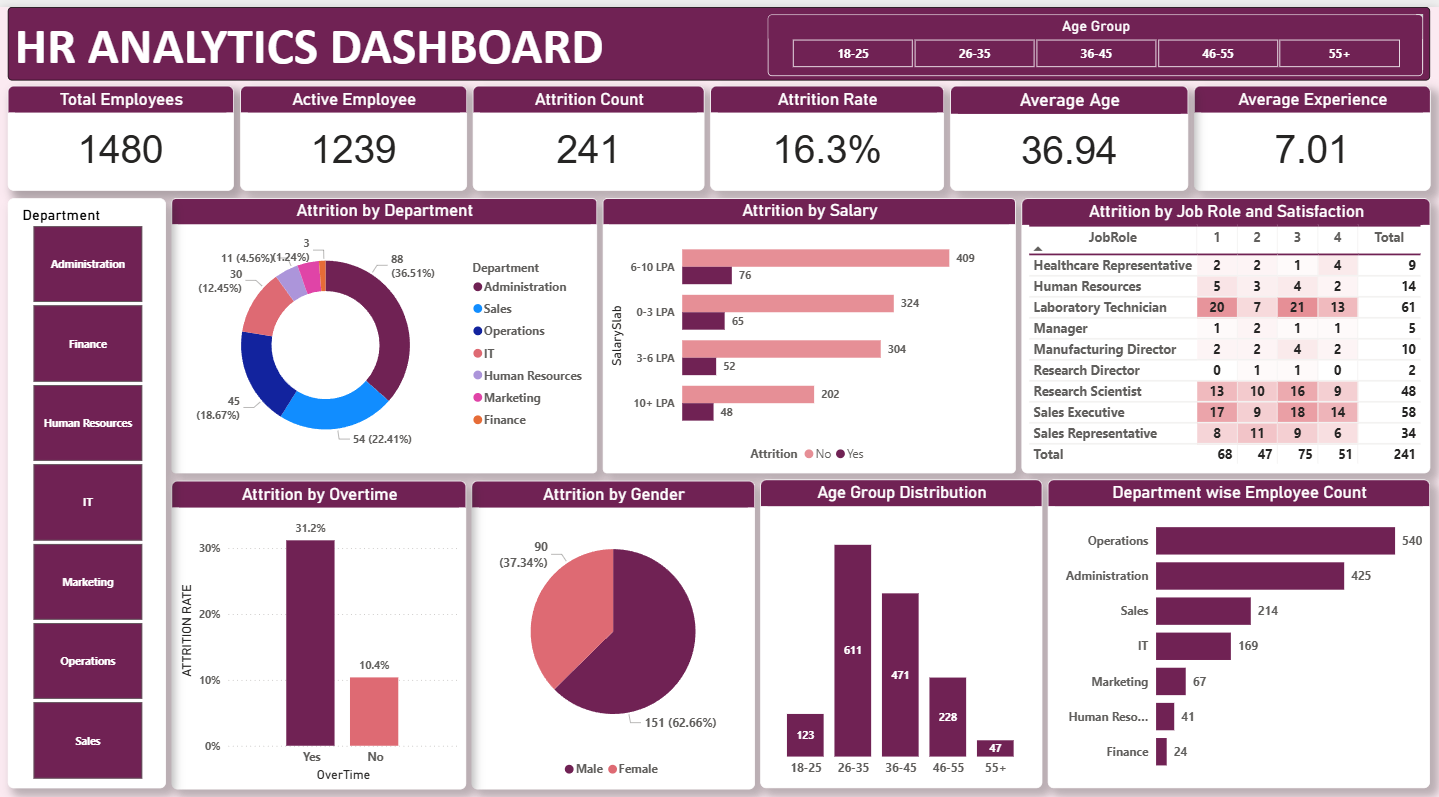

This screenshot's page, from the dashboard's own definition file:
{"tool":"powerbi","page":{"name":"Page 2","canvas":[1600,903],"ordinal":0},"visuals":[{"type":"textbox","box":[10,0,1577.1,97.1],"z":0},{"type":"card","title":"Total Employees","fields":{"Values":["HR_Analytics (1).Total Employees"]},"box":[10,104.3,251.4,137.1],"z":1000},{"type":"card","title":"Active Employee","fields":{"Values":["HR_Analytics (1).Active Employees"]},"box":[268.6,104.3,254,137.1],"z":2000},{"type":"card","title":"Attrition Count","fields":{"Values":["HR_Analytics (1).ATTRITION COUNT"]},"box":[530,104.3,253,137.1],"z":3000},{"type":"card","title":"Attrition Rate","fields":{"Values":["HR_Analytics (1).ATTRITION RATE"]},"box":[790,104.3,254,137.1],"z":4000},{"type":"card","title":"Average Experience","fields":{"Values":["HR_Analytics (1).AVERAGE EXPERIENCE"]},"box":[1317.1,104.3,270,137],"z":5000},{"type":"card","title":"Average Age","fields":{"Values":["Avg(HR_Analytics (1).Age)"]},"box":[1051.4,104.3,258.6,137.1],"z":6000},{"type":"donutChart","title":" Attrition by Department ","fields":{"Category":["HR_Analytics (1).Department"],"Y":["HR_Analytics (1).ATTRITION COUNT"]},"box":[197.1,250,470,324.3],"z":7000},{"type":"clusteredBarChart","title":"Attrition by Salary","fields":{"Category":["HR_Analytics (1).SalarySlab"],"Y":["Sum(HR_Analytics (1).EmployeeCount)"],"Series":["HR_Analytics (1).Attrition"]},"box":[675.7,250,471.4,324.3],"z":8000},{"type":"pivotTable","title":"Attrition by Job Role and Satisfaction","fields":{"Rows":["HR_Analytics (1).JobRole"],"Columns":["HR_Analytics (1).JobSatisfaction"],"Values":["HR_Analytics (1).ATT_COUNT"]},"box":[1155.7,250,431.4,325],"z":9000},{"type":"pieChart","title":" Attrition by Gender","fields":{"Category":["HR_Analytics (1).Gender"],"Y":["HR_Analytics (1).ATTRITION COUNT"]},"box":[540,582.9,321.4,311.4],"z":10000},{"type":"clusteredColumnChart","title":" Age Group Distribution","fields":{"Category":["HR_Analytics (1).AgeGroup"],"Y":["CountNonNull(HR_Analytics (1).AgeGroup)"]},"box":[870,582.9,322.9,310],"z":11000},{"type":"clusteredColumnChart","title":" Attrition by Overtime","fields":{"Category":["HR_Analytics (1).OverTime"],"Y":["HR_Analytics (1).ATTRITION RATE"]},"box":[197.1,582.9,337.1,311.4],"z":12000},{"type":"barChart","title":"Department wise Employee Count","fields":{"Category":["HR_Analytics (1).Department"],"Y":["CountNonNull(HR_Analytics (1).EmployeeCount)"]},"box":[1201.4,582.9,387.1,310],"z":13000},{"type":"slicer","fields":{"Values":["HR_Analytics (1).Department"]},"box":[10,250,181.4,642.9],"z":14000},{"type":"slicer","title":"Age Group","fields":{"Values":["HR_Analytics (1).AgeGroup"]},"box":[894.3,11.4,681.4,78],"z":15000}]}

Visuals, with their boxes in screenshot pixels (x1, y1, x2, y2), scaled from the page's 1600x903 canvas onto the 1439x797 screenshot:
textbox: <bbox>9, 0, 1427, 86</bbox>
"Total Employees" card: <bbox>9, 92, 235, 213</bbox>
"Active Employee" card: <bbox>242, 92, 470, 213</bbox>
"Attrition Count" card: <bbox>477, 92, 704, 213</bbox>
"Attrition Rate" card: <bbox>711, 92, 939, 213</bbox>
"Average Experience" card: <bbox>1185, 92, 1427, 213</bbox>
"Average Age" card: <bbox>946, 92, 1178, 213</bbox>
" Attrition by Department " donutChart: <bbox>177, 221, 600, 507</bbox>
"Attrition by Salary" clusteredBarChart: <bbox>608, 221, 1032, 507</bbox>
"Attrition by Job Role and Satisfaction" pivotTable: <bbox>1039, 221, 1427, 508</bbox>
" Attrition by Gender" pieChart: <bbox>486, 514, 775, 789</bbox>
" Age Group Distribution" clusteredColumnChart: <bbox>782, 514, 1073, 788</bbox>
" Attrition by Overtime" clusteredColumnChart: <bbox>177, 514, 480, 789</bbox>
"Department wise Employee Count" barChart: <bbox>1081, 514, 1429, 788</bbox>
slicer - HR_Analytics (1).Department: <bbox>9, 221, 172, 788</bbox>
"Age Group" slicer: <bbox>804, 10, 1417, 79</bbox>
